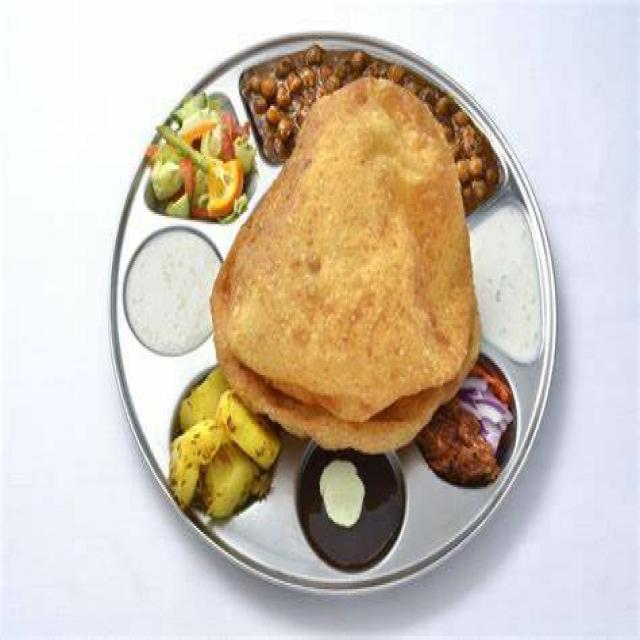Bhatura: (206, 80, 482, 448)
